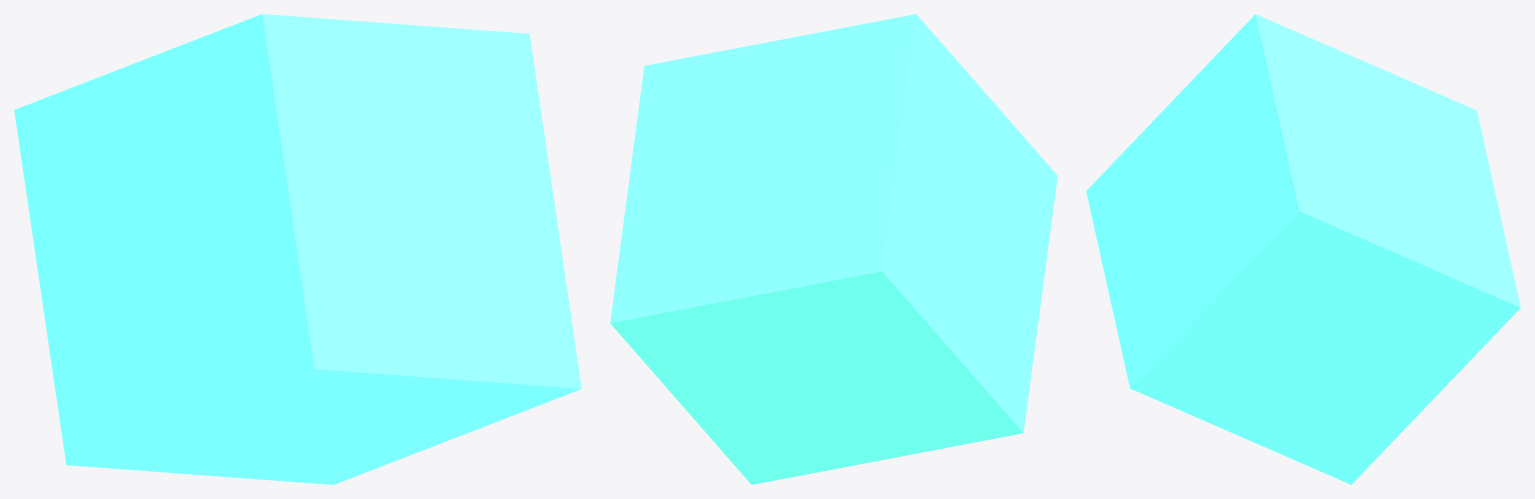
Rendered from testAnim0.gltf.
The picture shows the model from 3 angles, left to right: view 1: azimuth 30°, elevation 25°; view 2: azimuth 150°, elevation 25°; view 3: azimuth 270°, elevation 25°; orthographic projection. The views are drawn at different scales.
Parts seen in each view (by area): view 1: particle.000; view 2: particle.000; view 3: particle.000.
Boxes of the visible parts, x1,y1,x2,y2 form: particle.000: [14, 14, 581, 484]; particle.000: [610, 14, 1057, 484]; particle.000: [1086, 14, 1520, 484].
Size of what is drawn, in the model's own units: 0.2435 by 0.2791 by 0.2613.
